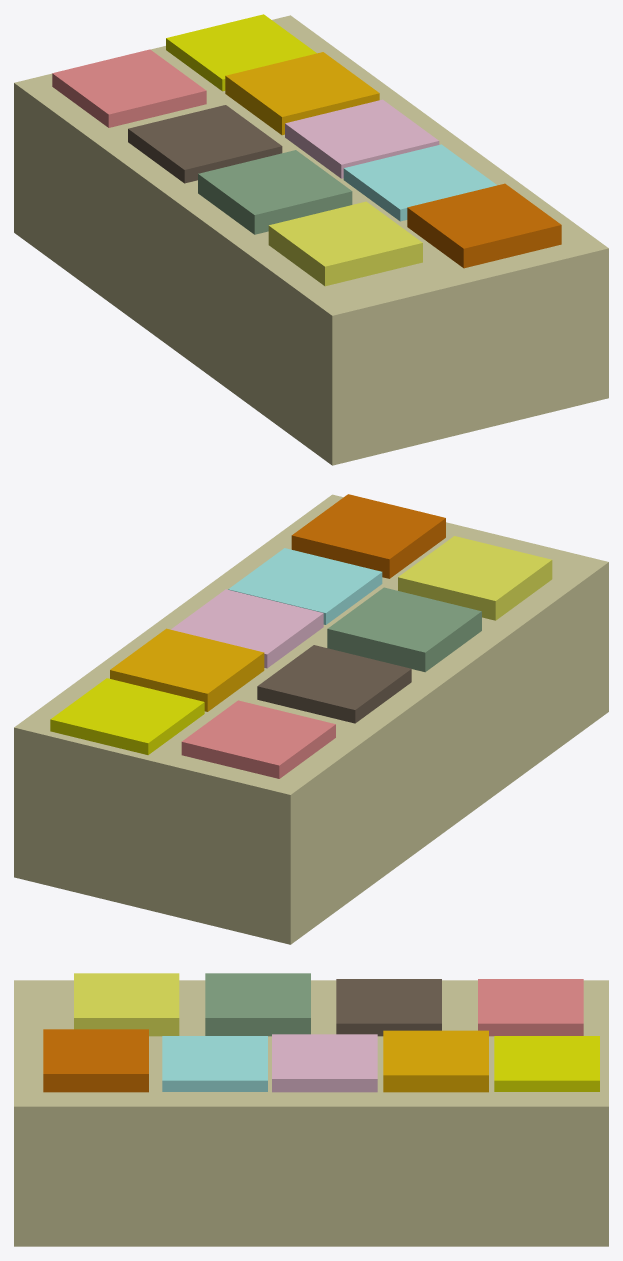
File: Clothing Table 5.fbx
3 renders of one model, top to bottom at view 1: azimuth 30°, elevation 25°; view 2: azimuth 150°, elevation 25°; view 3: azimuth 270°, elevation 25°, orthographic. The views are drawn at different scales.
Parts seen in each view (by area): view 1: etale_vetement_straight2_pCube38; view 2: etale_vetement_straight2_pCube38; view 3: etale_vetement_straight2_pCube38.
Part boxes in pixels (x1,y1,x2,y2): etale_vetement_straight2_pCube38: [14, 14, 608, 465]; etale_vetement_straight2_pCube38: [14, 494, 608, 944]; etale_vetement_straight2_pCube38: [14, 973, 608, 1246].
Bounding box in the file's own units: 1.59 × 0.9297 × 3.17.
